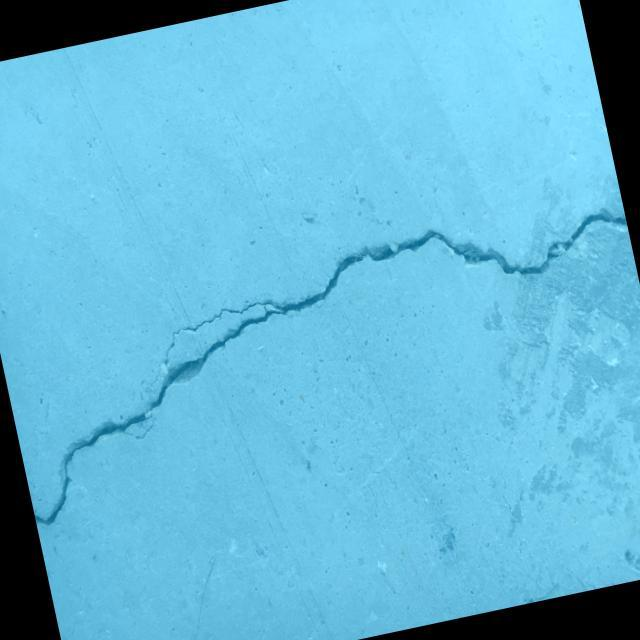crack: (0, 187, 640, 528), (478, 376, 554, 593)
